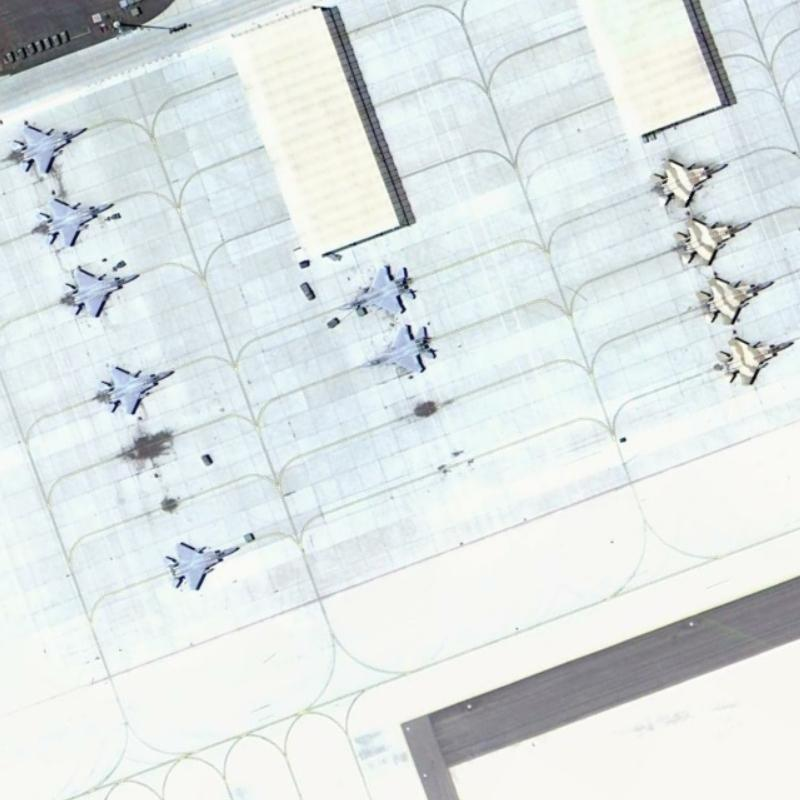A13: (641, 145, 733, 220), (336, 251, 420, 324), (705, 325, 795, 392), (685, 268, 781, 329), (58, 256, 146, 322), (348, 315, 438, 379), (92, 353, 178, 419), (31, 186, 114, 251), (669, 210, 756, 271), (158, 531, 242, 594), (13, 112, 89, 179)
